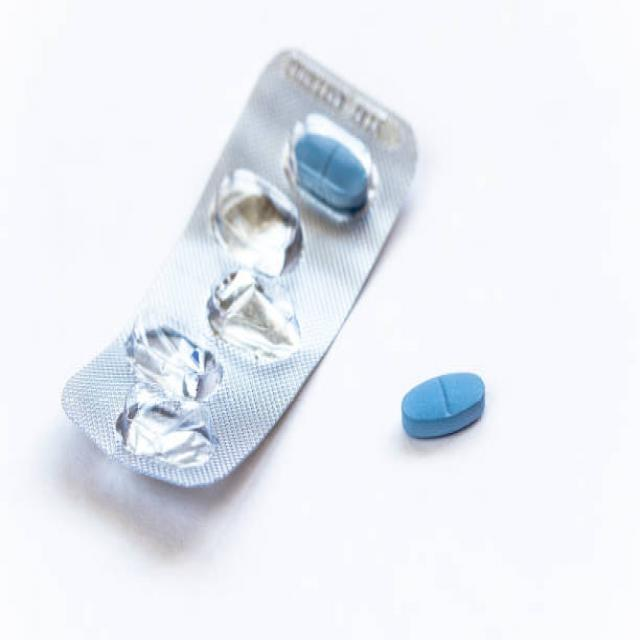Empty: (186, 241, 323, 394), (110, 298, 253, 426), (202, 141, 322, 292), (91, 366, 247, 479)
Pill: (270, 91, 400, 244)
